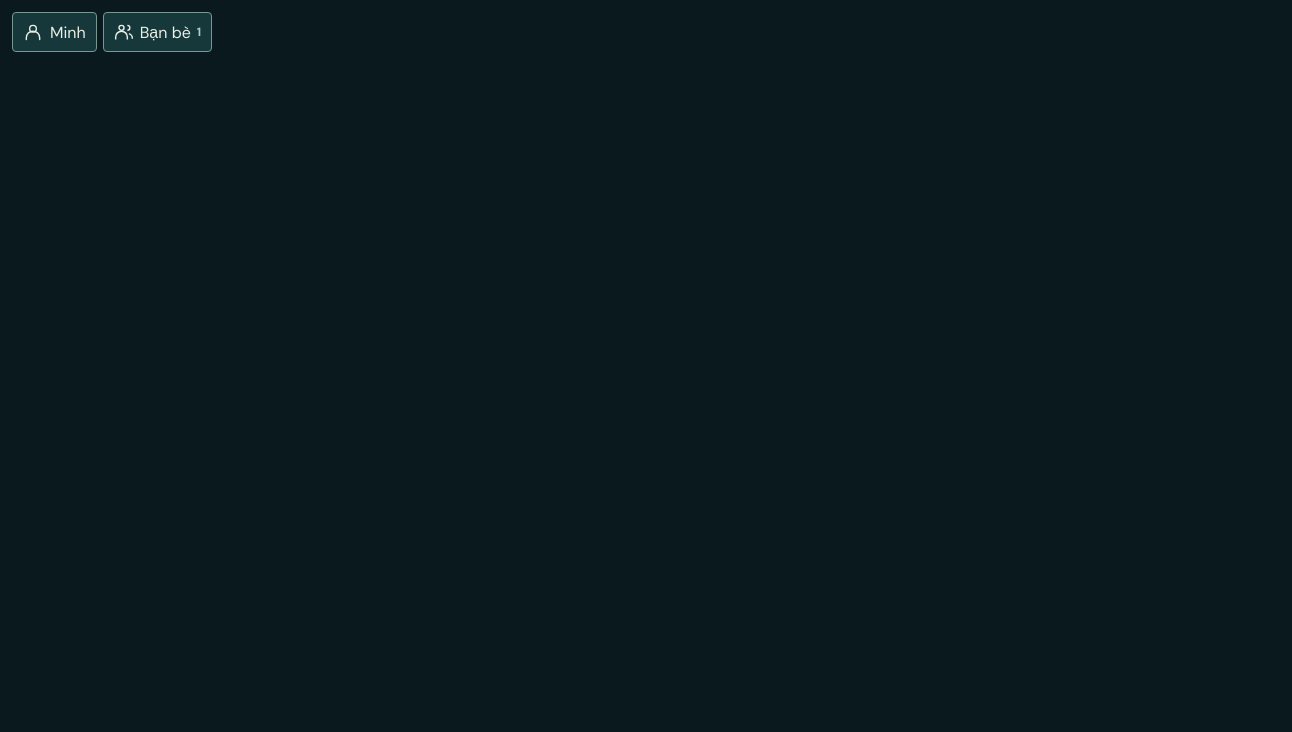
Test: player code and online friends › sorts available friends first, filters online and sends the right invitation
Later steps or results of the test are not shown.
Click the button with aria-label "Bạn bè, 1 người online".
click(157, 32)  # box [103,12,212,52]
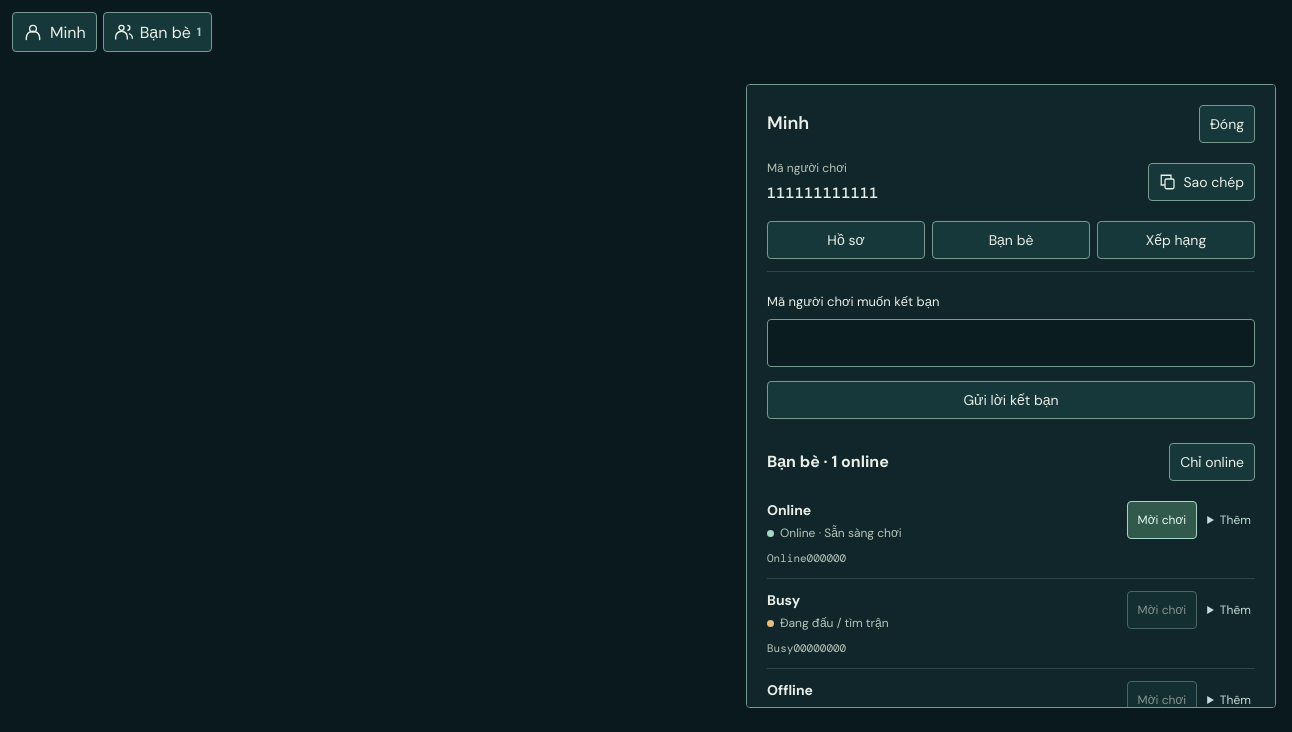
Expected: the button with aria-label "Mời Busy chơi" is disabled, [1127,591,1197,629]
Expected: the button with aria-label "Mời Offline chơi" is disabled, [1127,681,1197,708]
Click the button with aria-label "Mời Online chơi".
click(1162, 520)  # box [1127,501,1197,539]
Click the button "Chỉ online".
click(1212, 462)  # box [1169,443,1255,481]
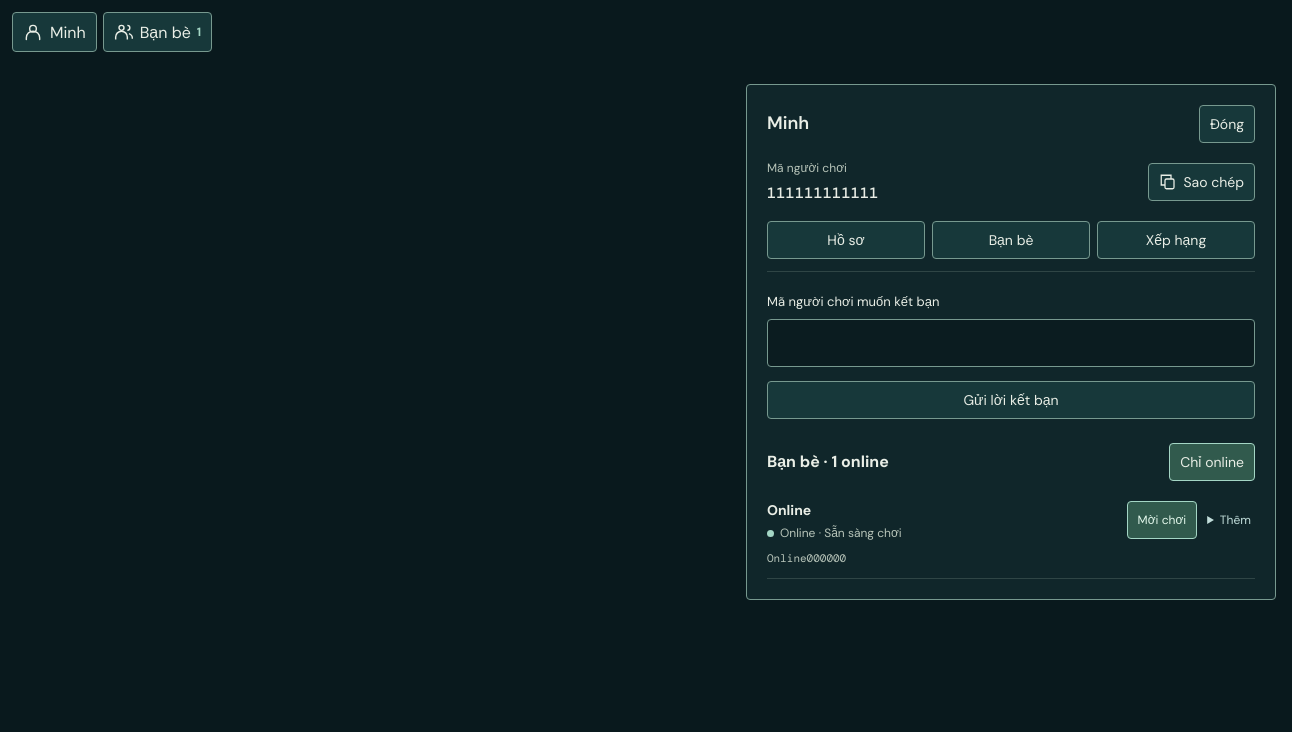
Expected: the number of list items is 1, [767,489,1255,579]
